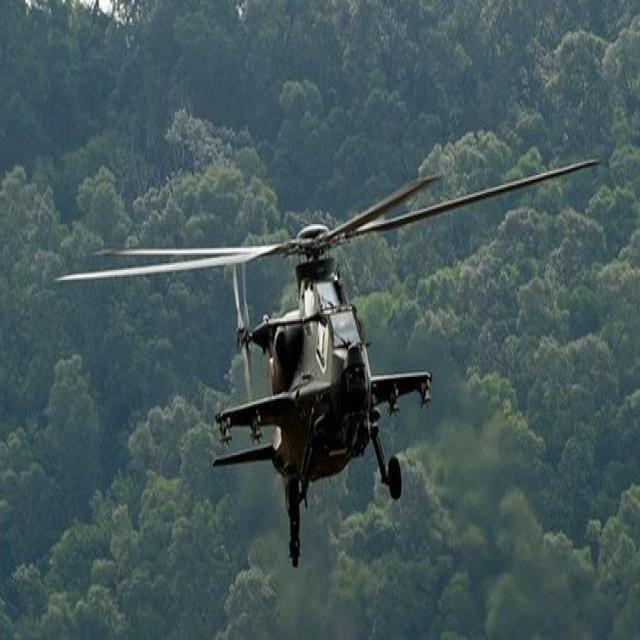MIL_HELO: (46, 157, 604, 570)
